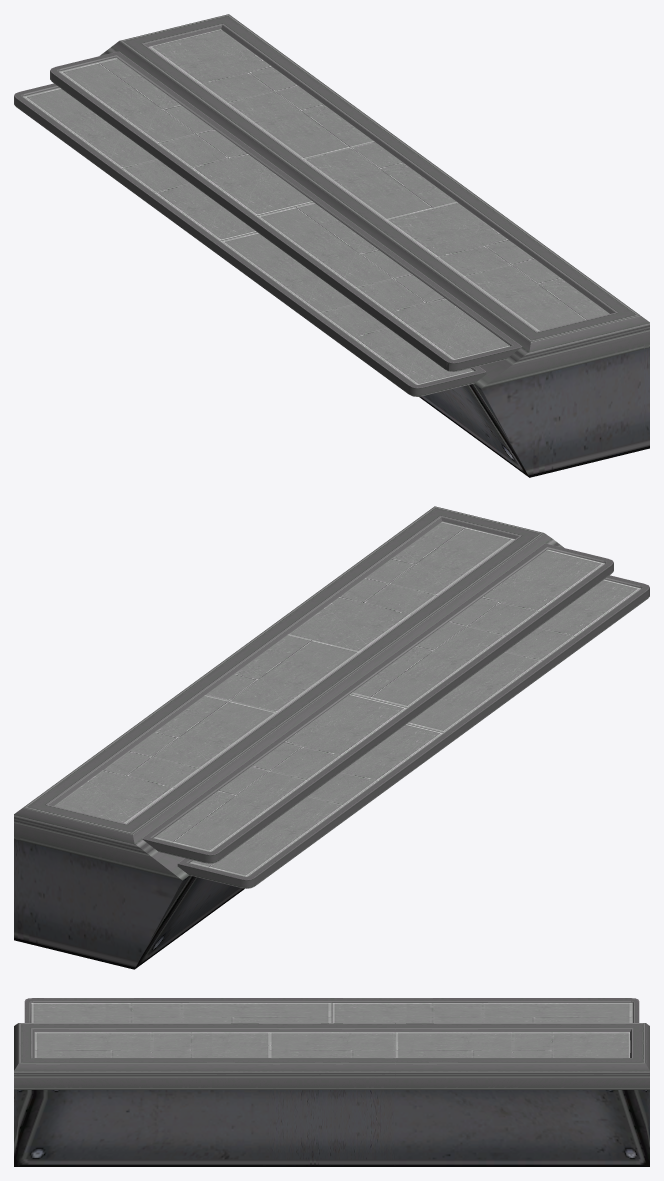
Rendered from Pres_Floor_1x4_StairDown.FBX.
3 views of the same model, one above another, from view 1: azimuth 30°, elevation 25°; view 2: azimuth 150°, elevation 25°; view 3: azimuth 270°, elevation 25° (orthographic). The views are drawn at different scales.
Parts seen in each view (by area): view 1: Pres_Floor_1x4_StairDown; view 2: Pres_Floor_1x4_StairDown; view 3: Pres_Floor_1x4_StairDown.
Part boxes in pixels (x1=…): Pres_Floor_1x4_StairDown: x1=14, y1=14, x2=649, y2=477; Pres_Floor_1x4_StairDown: x1=14, y1=506, x2=649, y2=969; Pres_Floor_1x4_StairDown: x1=14, y1=998, x2=649, y2=1166.
Bounding box in the file's own units: 1.9 × 1.05 × 6.
